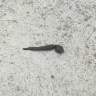Dog: (23, 45, 64, 53)
